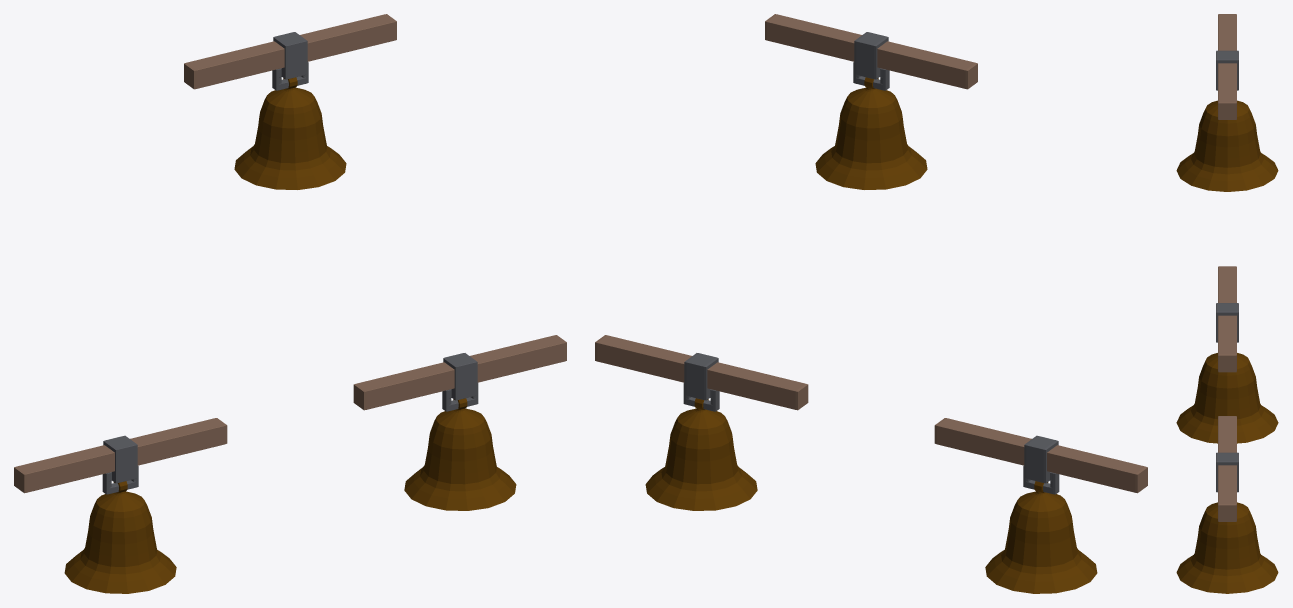
File: Chapel Extras.fbx
3 renders of one model, left to right at view 1: azimuth 30°, elevation 25°; view 2: azimuth 150°, elevation 25°; view 3: azimuth 270°, elevation 25°, orthographic. The views are drawn at different scales.
Parts seen in each view (by area): view 1: Bell_3, Bell_2, Bell_1, Bell_3_Bar, Bell_2_Bar, Bell_1_Bar, Bell_1_Attachment, Bell_3_Attachment, Bell_2_Attachment; view 2: Bell_3, Bell_2, Bell_1, Bell_3_Bar, Bell_2_Bar, Bell_1_Bar, Bell_1_Attachment, Bell_3_Attachment, Bell_2_Attachment; view 3: Bell_1, Bell_3, Bell_2, Bell_2_Bar, Bell_1_Bar, Bell_3_Bar, Bell_1_Attachment, Bell_3_Attachment, Bell_2_Attachment.
Boxes of the visible parts, x1=… form: Bell_3: x1=404, y1=398, x2=516, y2=510; Bell_2: x1=64, y1=481, x2=176, y2=593; Bell_1: x1=234, y1=77, x2=346, y2=189; Bell_3_Bar: x1=353, y1=335, x2=566, y2=410; Bell_2_Bar: x1=14, y1=418, x2=227, y2=493; Bell_1_Bar: x1=184, y1=14, x2=396, y2=89; Bell_1_Attachment: x1=272, y1=32, x2=308, y2=90; Bell_3_Attachment: x1=442, y1=353, x2=478, y2=411; Bell_2_Attachment: x1=102, y1=435, x2=138, y2=494; Bell_3: x1=645, y1=398, x2=757, y2=510; Bell_2: x1=985, y1=481, x2=1097, y2=593; Bell_1: x1=815, y1=77, x2=927, y2=189; Bell_3_Bar: x1=595, y1=335, x2=808, y2=410; Bell_2_Bar: x1=934, y1=418, x2=1147, y2=493; Bell_1_Bar: x1=765, y1=14, x2=977, y2=89; Bell_1_Attachment: x1=853, y1=32, x2=889, y2=90; Bell_3_Attachment: x1=683, y1=353, x2=719, y2=411; Bell_2_Attachment: x1=1023, y1=435, x2=1059, y2=494; Bell_1: x1=1176, y1=100, x2=1278, y2=191; Bell_3: x1=1176, y1=502, x2=1278, y2=593; Bell_2: x1=1176, y1=353, x2=1278, y2=443; Bell_2_Bar: x1=1218, y1=266, x2=1236, y2=372; Bell_1_Bar: x1=1218, y1=14, x2=1236, y2=119; Bell_3_Bar: x1=1218, y1=416, x2=1236, y2=521; Bell_1_Attachment: x1=1216, y1=50, x2=1238, y2=90; Bell_3_Attachment: x1=1216, y1=452, x2=1238, y2=492; Bell_2_Attachment: x1=1216, y1=303, x2=1238, y2=342.
Size of the model in its own units: 4.79 by 4.18 by 0.8646.
